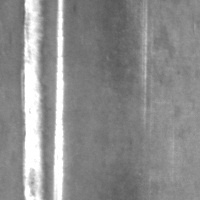scratches: (21, 0, 46, 199), (51, 0, 68, 199), (137, 1, 151, 127)
